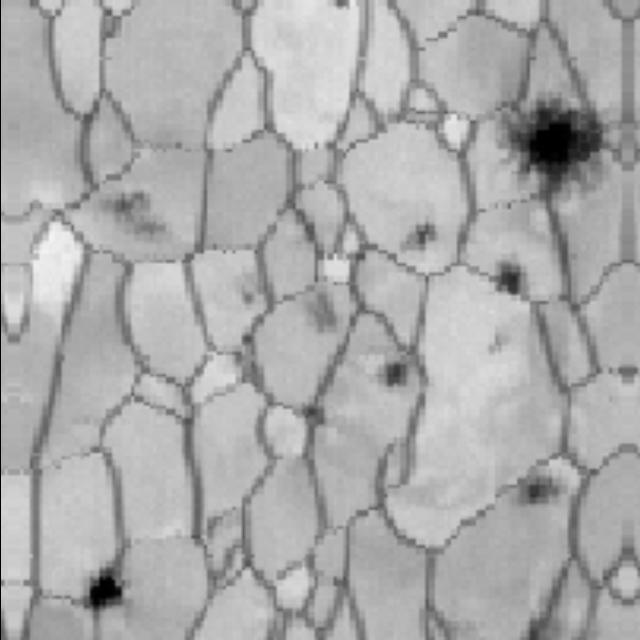good_void: (489, 86, 620, 212), (87, 172, 177, 268), (64, 556, 135, 624), (505, 460, 571, 524), (385, 209, 445, 264), (484, 247, 539, 306), (295, 284, 345, 342), (370, 357, 412, 395), (291, 394, 329, 435), (479, 324, 516, 363), (237, 287, 257, 313), (327, 0, 349, 12)
